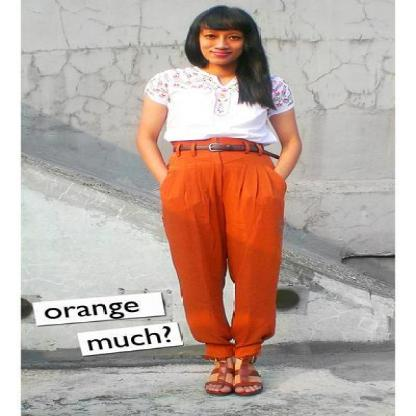pants: (160, 150, 286, 364)
shirt: (143, 66, 283, 140)
shoe: (204, 358, 263, 396)
